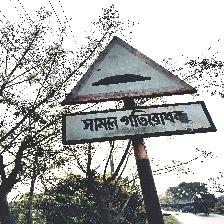Speed-breaker: (60, 37, 214, 144)
